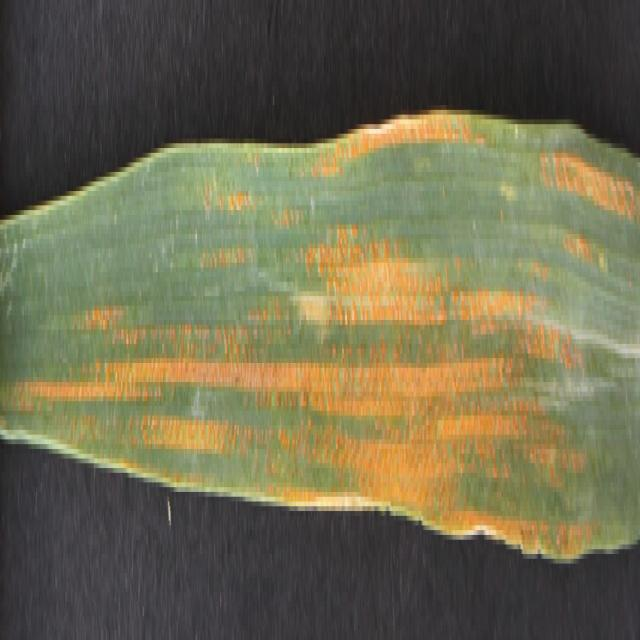leaf rust: (1, 105, 638, 545)
